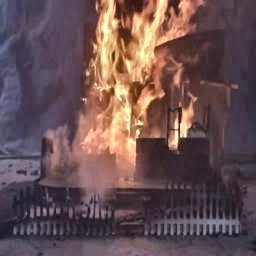fire: (59, 0, 235, 168)
